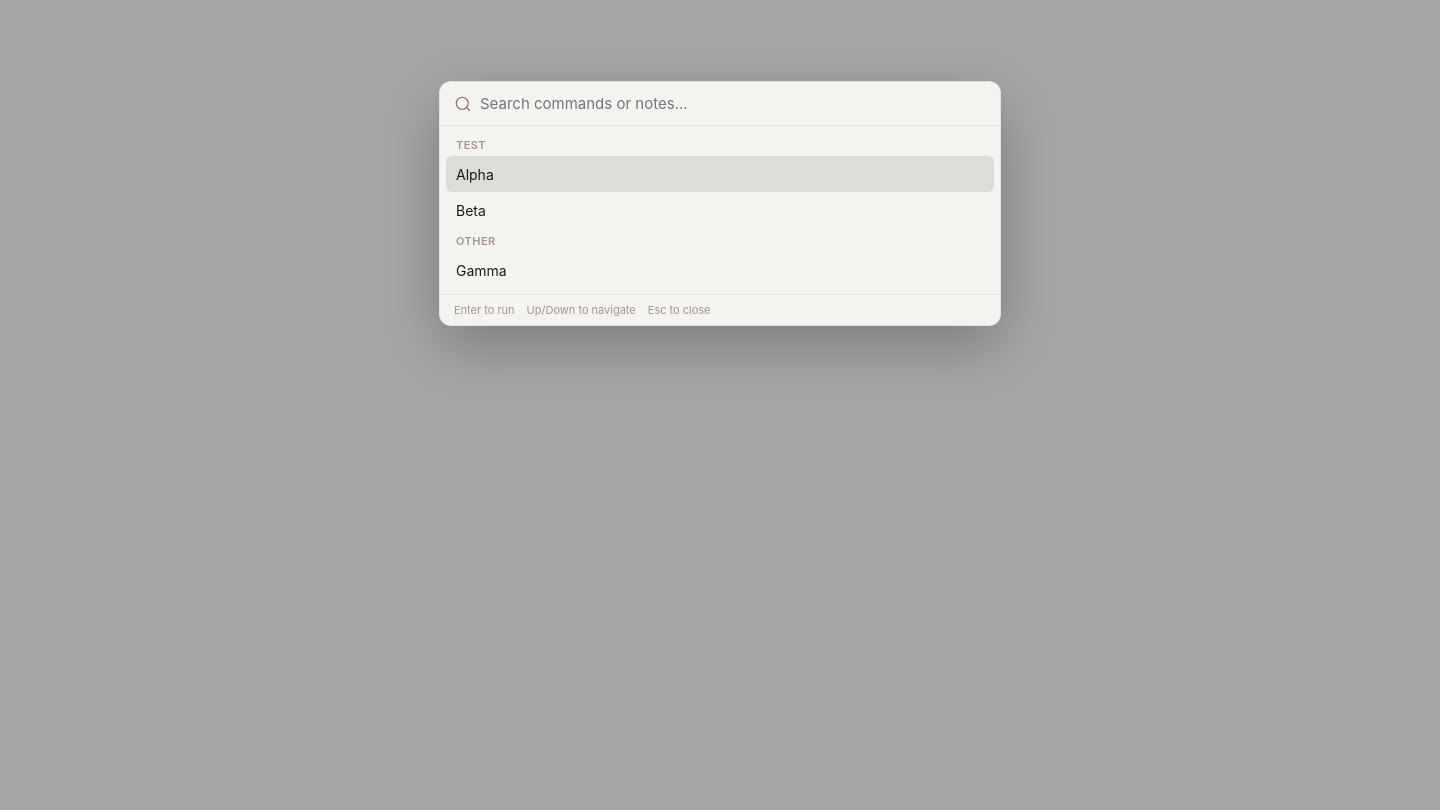
Test: CommandPalette › shows no results when query matches nothing
Type "xyz" into the field with placeholder "Search commands or notes..." at (733, 104), box [480,94,986,113]
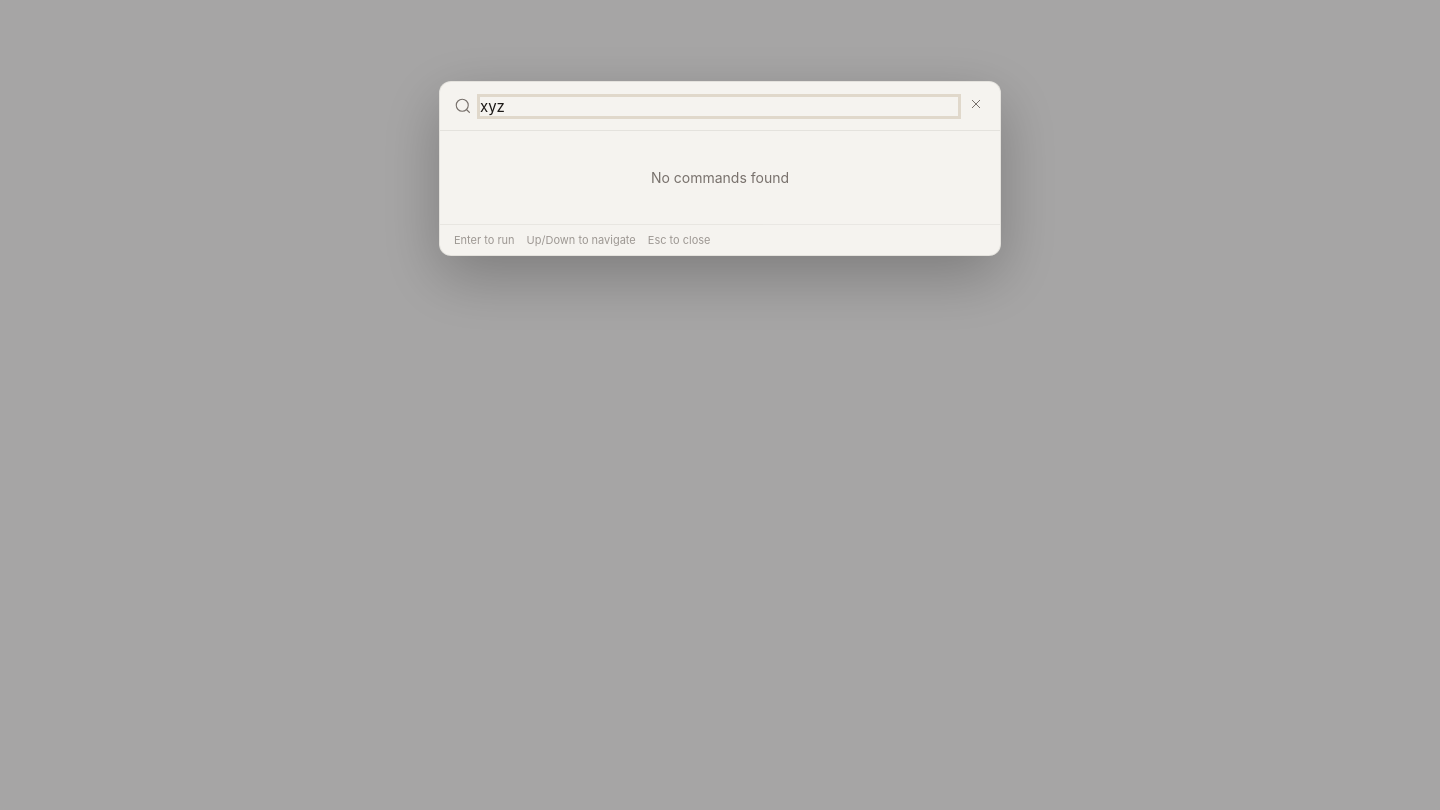
Check: the text "No commands found" is shown, box [651,169,789,186]
